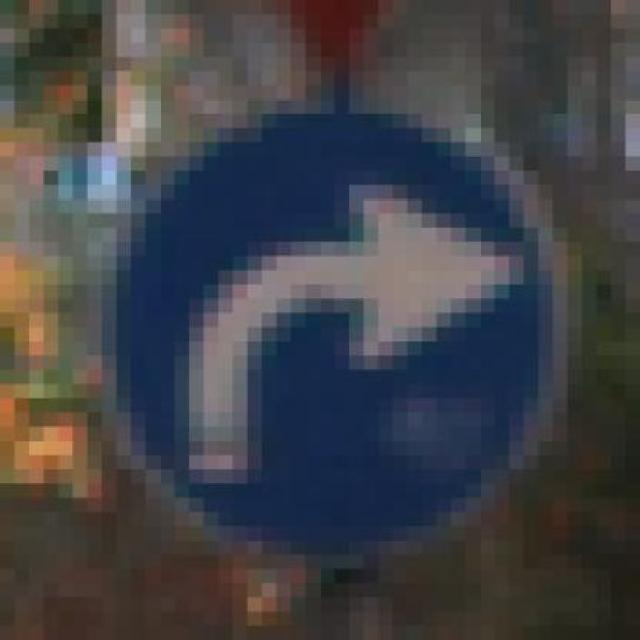Turn right ahead: (73, 71, 582, 569)
